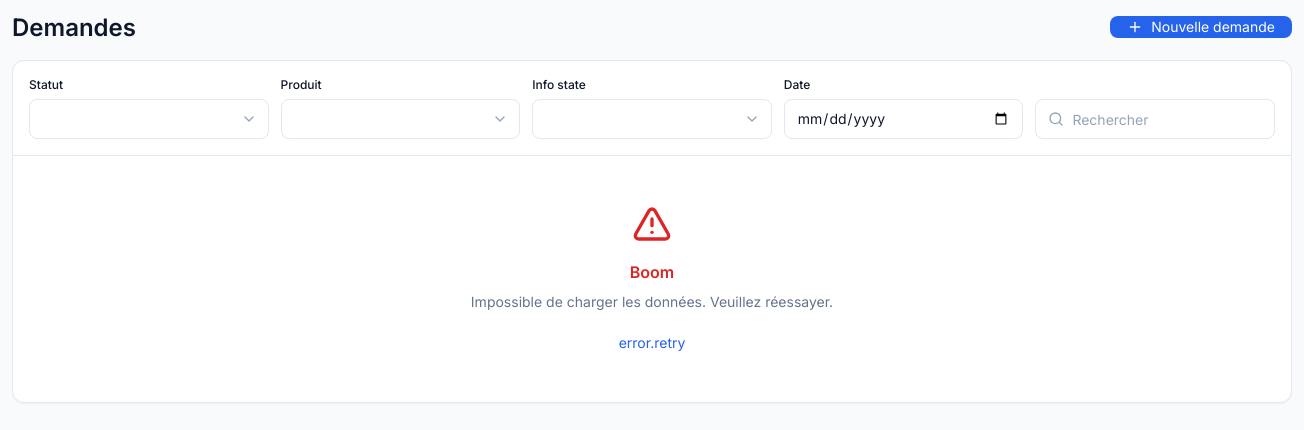
Test case: ApplicationsListPage › shows the error state and reloads when retry is clicked
The width and height of the screenshot is (1304, 430).
Check: the message shows "Boom", box left=630, top=262, right=674, bottom=282
Click the button "error.retry" at (652, 343), box left=602, top=332, right=702, bottom=354
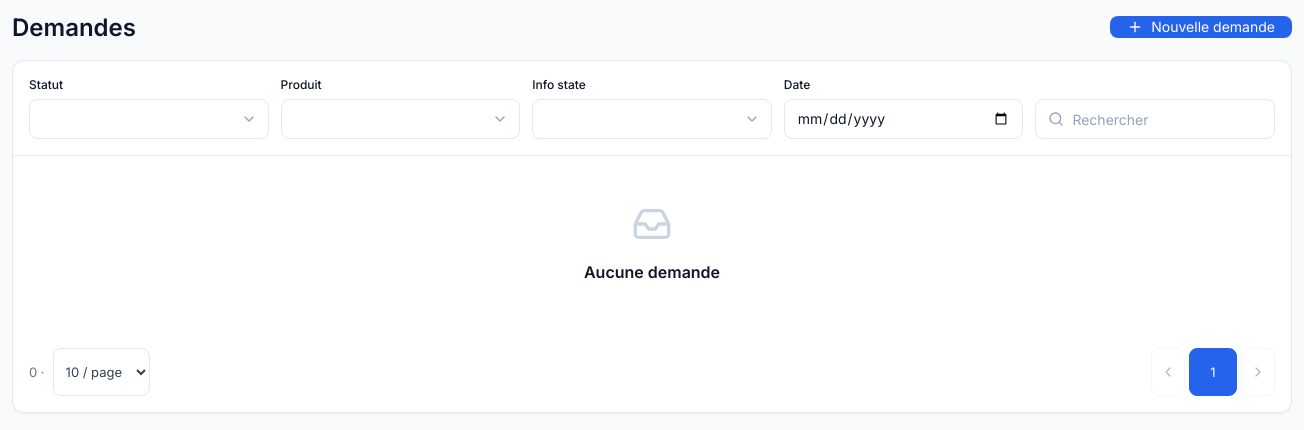
Check: the heading "Aucune demande" is shown, box left=584, top=260, right=720, bottom=284
